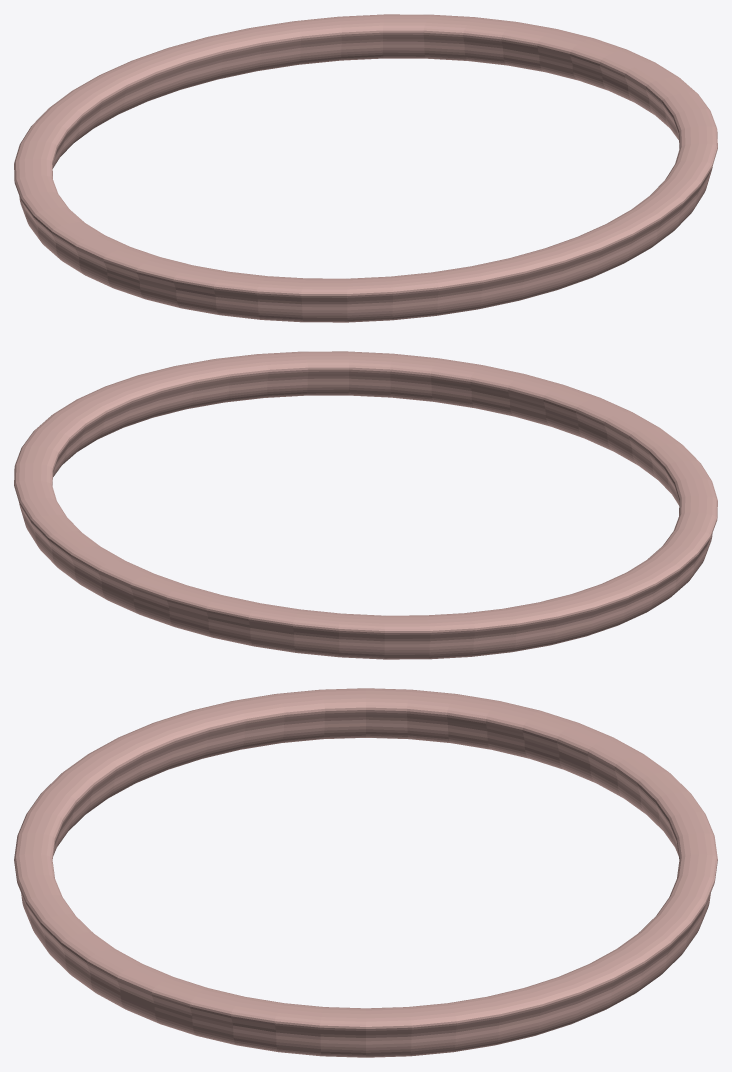
Rendered from ducks.glb.
The picture shows the model from 3 angles, top to bottom: view 1: azimuth 30°, elevation 25°; view 2: azimuth 150°, elevation 25°; view 3: azimuth 270°, elevation 25°; orthographic projection. The views are drawn at different scales.
Parts seen in each view (by area): view 1: Mesh_Mesh_head_geo.001_lambert2SG.001; view 2: Mesh_Mesh_head_geo.001_lambert2SG.001; view 3: Mesh_Mesh_head_geo.001_lambert2SG.001.
Part boxes in pixels (x1,y1,x2,y2): Mesh_Mesh_head_geo.001_lambert2SG.001: [14, 14, 717, 322]; Mesh_Mesh_head_geo.001_lambert2SG.001: [14, 351, 717, 659]; Mesh_Mesh_head_geo.001_lambert2SG.001: [14, 688, 717, 1057].
Size of the model in its own units: 0.0857 by 0.005 by 0.0754.
